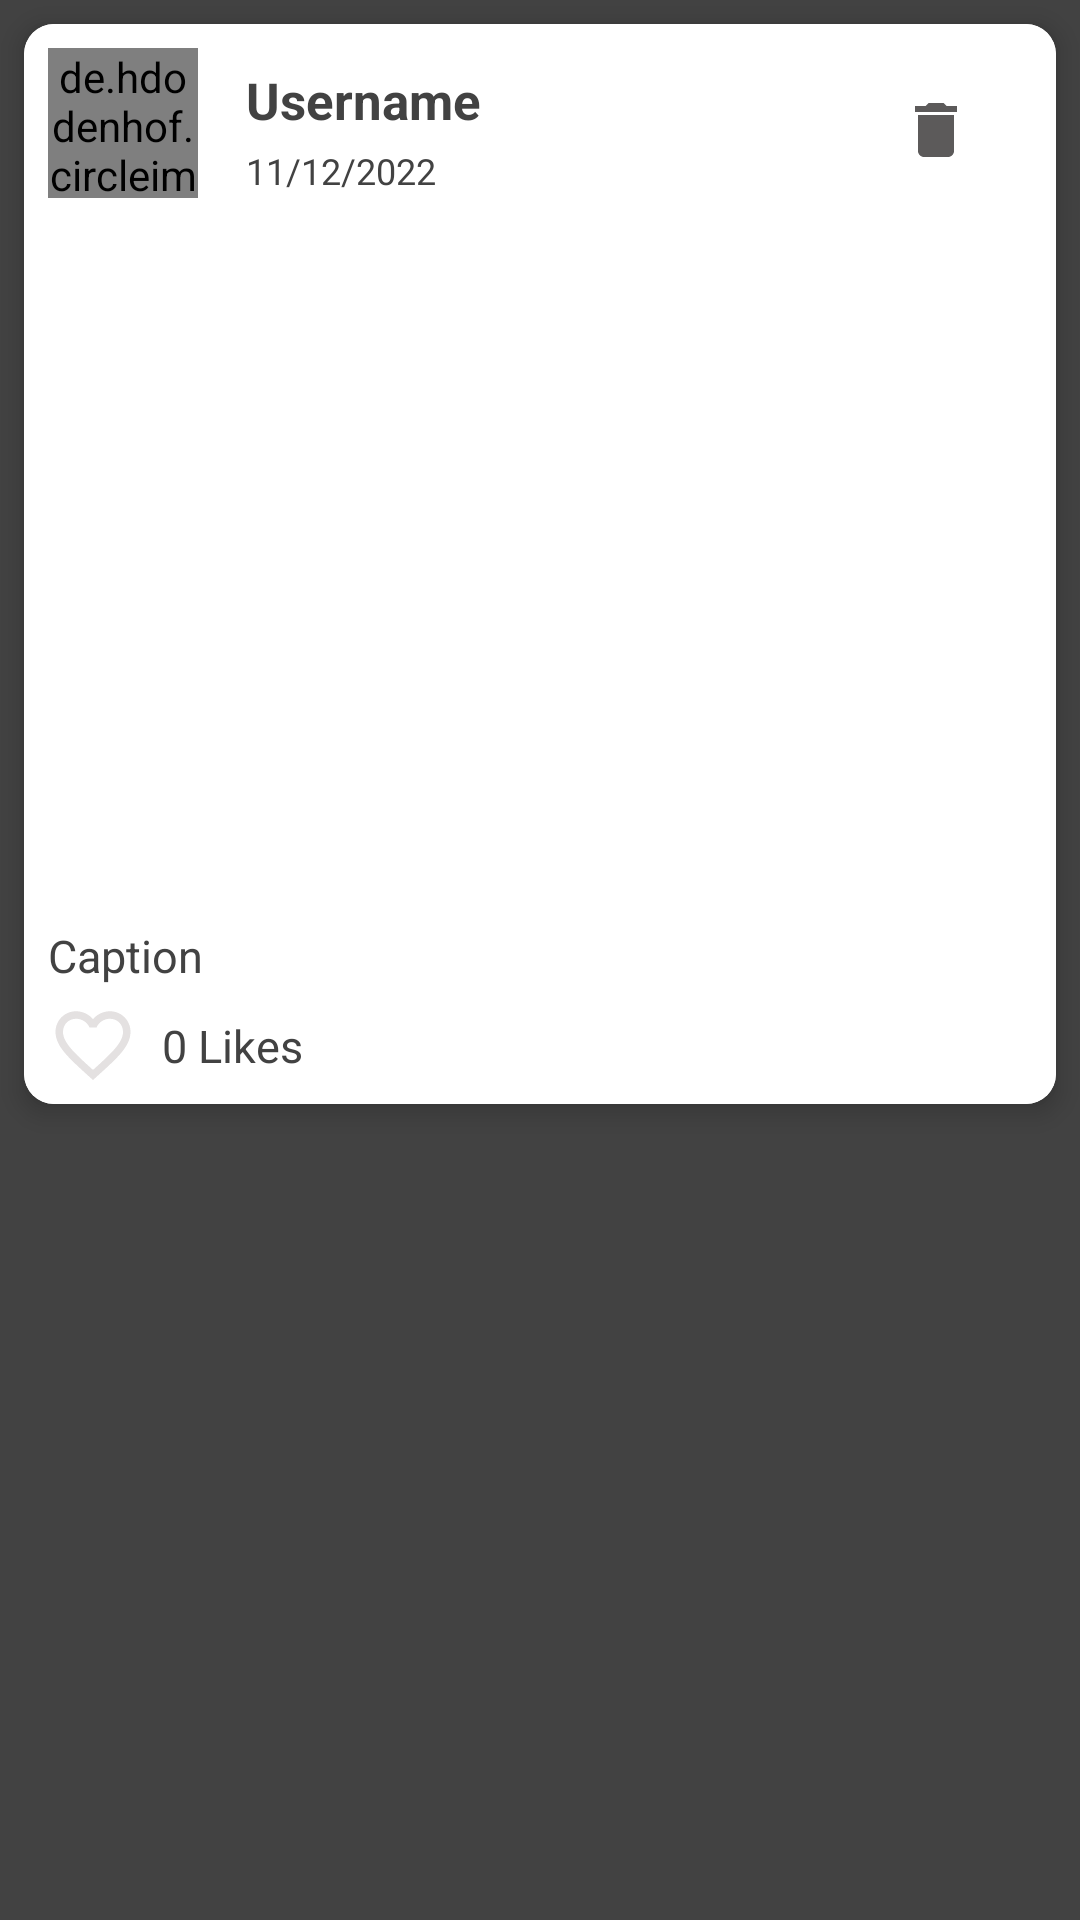

Named icons in this screenshot (1080×1920) and their centers, [x,y]:
before liked: [93,1045]
delete: [936,130]
